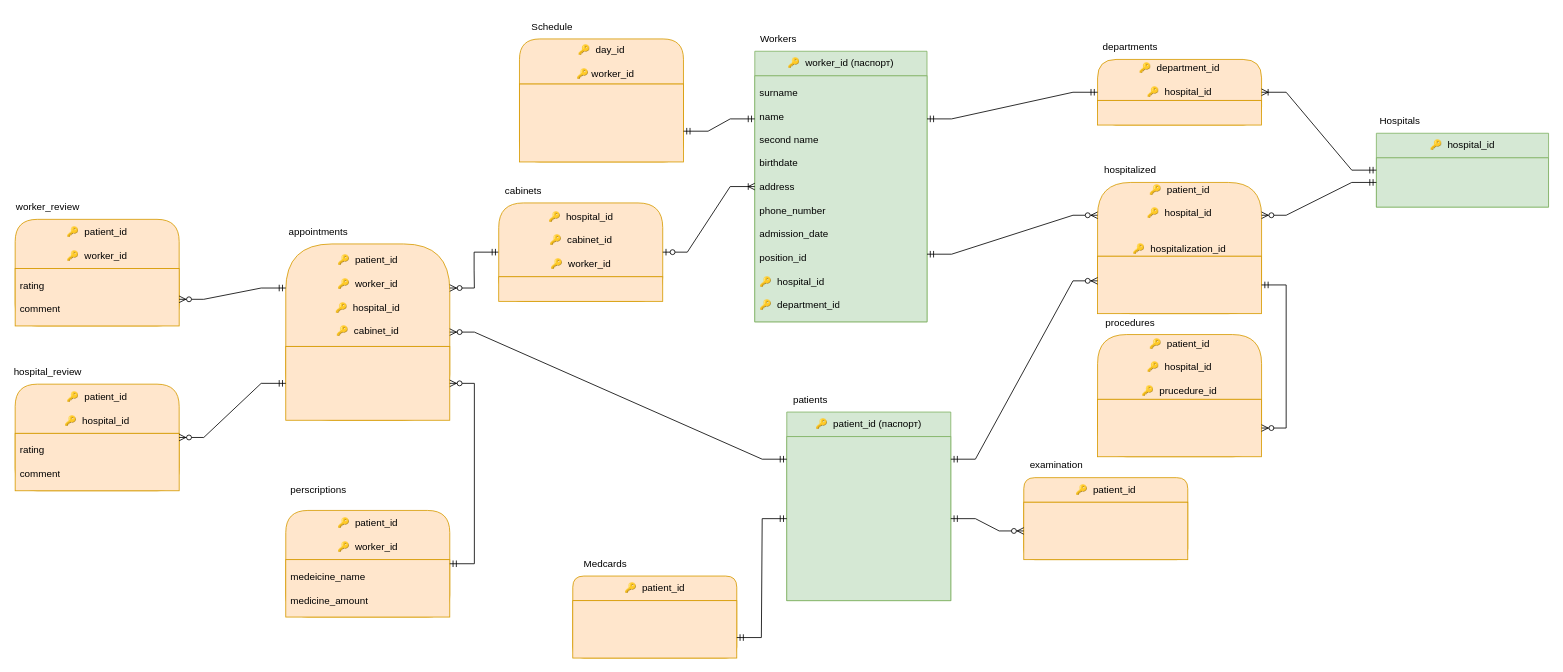
This 1563x672 diagram has some shape labels left out. The shapes that lost their labels are listed below. From the top down, each one's centre as x and y in pixels, then its label:
(601,122): start_time end_time date
(1462,182): address hospital_type
(1179,284): arrival_date 🔑 worker_id
(367,383): appointment_date appointment_time attended
(1179,428): procedure_date 🔑 worker_id
(868,518): surname name second name birthdate address phone_number sex_id
(1105,530): examination_date examination_results
(654,629): update_date location
